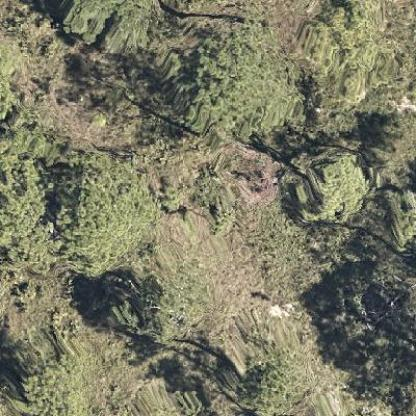tree-top: (53, 153, 158, 278), (184, 19, 299, 132), (306, 8, 389, 108), (297, 146, 380, 224), (51, 0, 161, 56), (240, 360, 300, 411)
